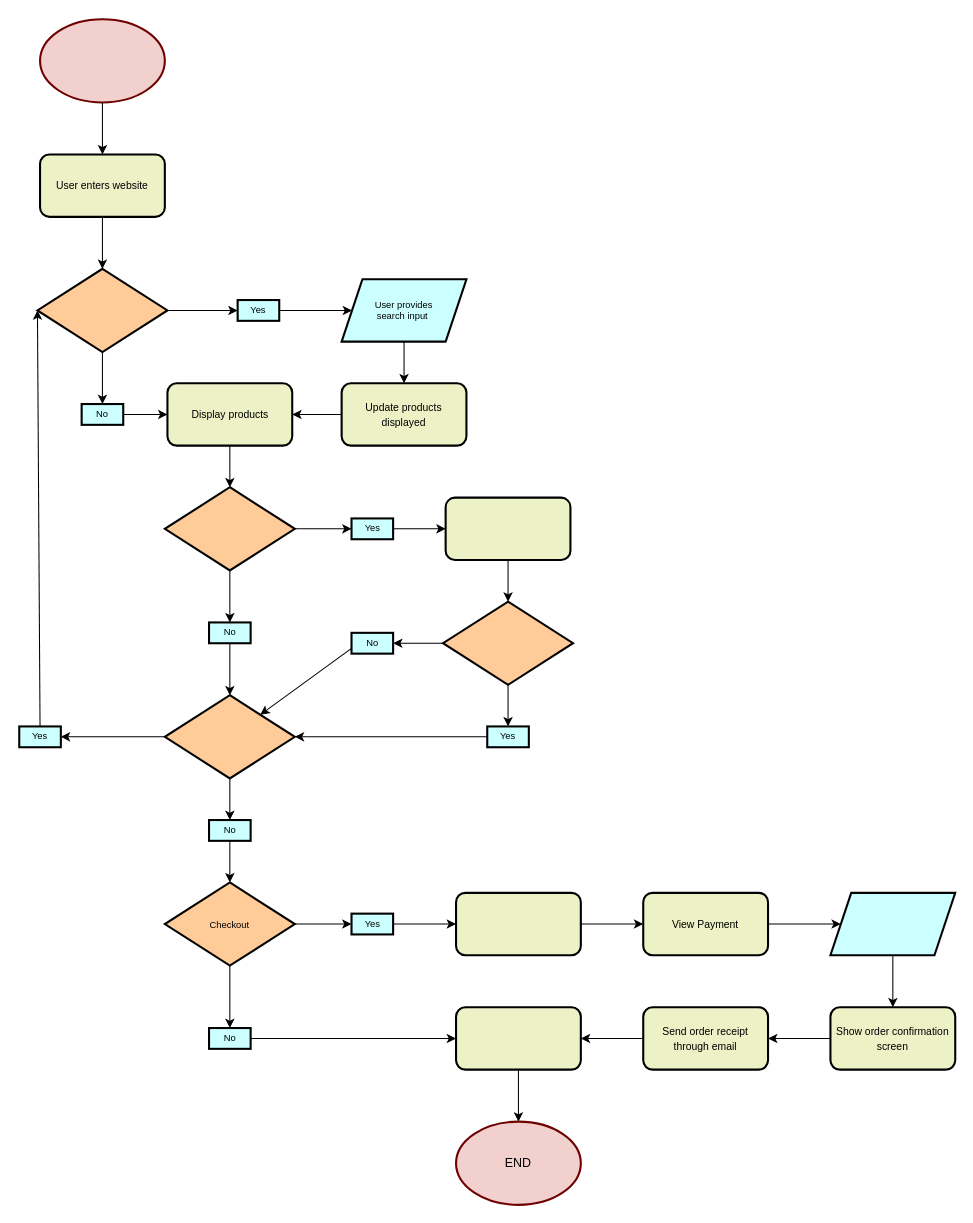
This 973x1223 diagram has some shape labels left out. The centre of each missing label's shape, as x and y in pixels:
"Add to cart" goes at pixel 507 642.
"Continue shopping" goes at pixel 229 736.
"Display specific products" goes at pixel 507 528.
"Input payment information" goes at pixel 892 923.
"Selects specific product" goes at pixel 229 528.
"START" goes at pixel 101 60.
"User has option to search" goes at pixel 102 310.
"User leaves site" goes at pixel 517 1038.
"View Cart" goes at pixel 517 923.
